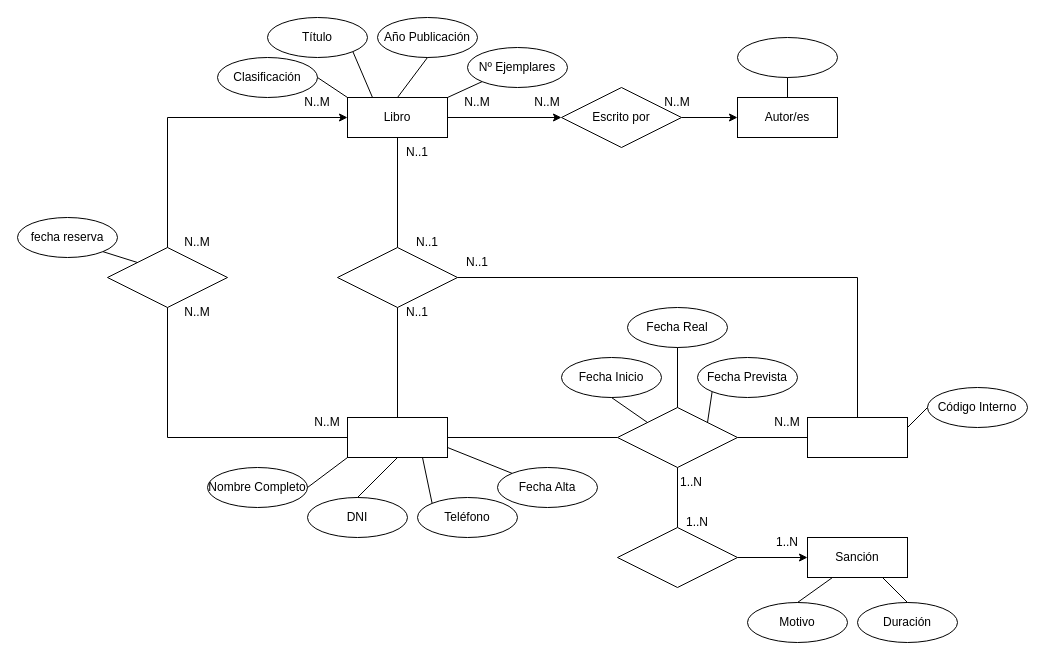
The diagram is 1045 pixels wide and 660 high, and some of its shapes have lost their labels. The centre of each missing label's shape, as x and y in pixels:
Ejemplar: (857,437)
Es copia de: (397,277)
Establece: (677,557)
Nombre: (787,57)
Préstamo: (677,437)
Solicita: (167,277)
Usuarios: (397,437)
